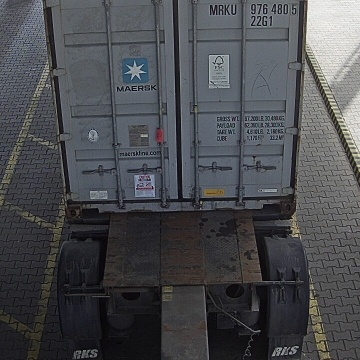serial_id: (210, 3, 298, 15)
